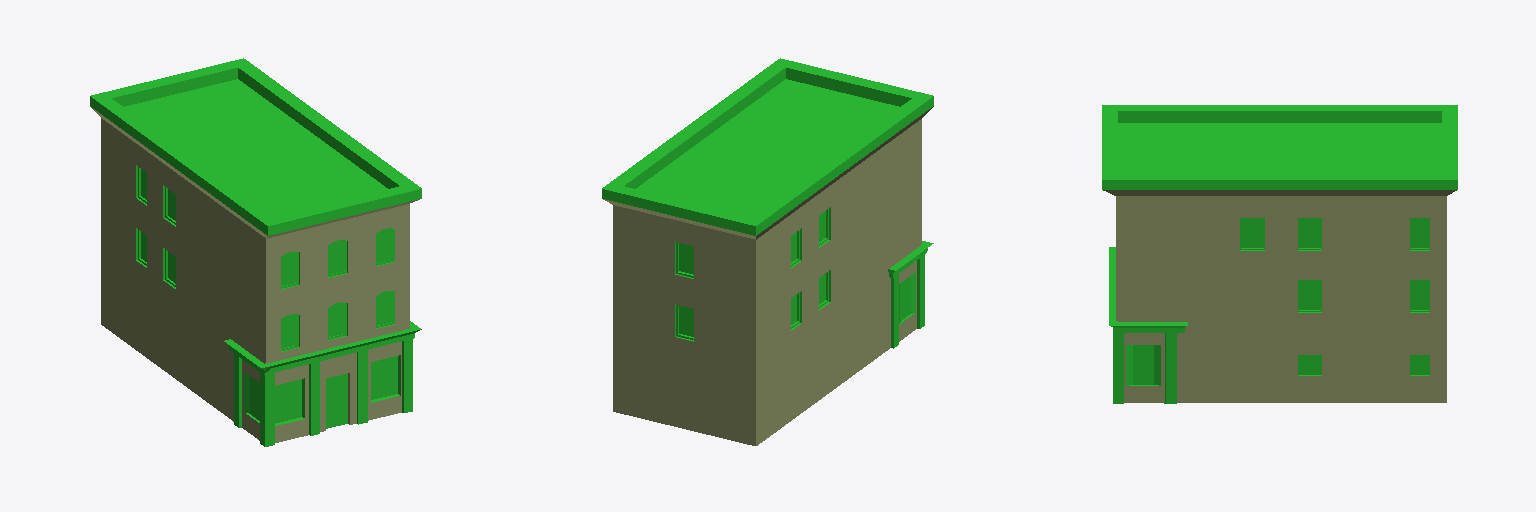
The model's file is house.obj.
The picture shows the model from 3 angles: view 1: azimuth 30°, elevation 25°; view 2: azimuth 150°, elevation 25°; view 3: azimuth 270°, elevation 25°; orthographic projection.
Parts seen in each view (by area): view 1: Cube; view 2: Cube; view 3: Cube.
Boxes of the visible parts, x1=… form: Cube: x1=90, y1=58, x2=421, y2=446; Cube: x1=602, y1=58, x2=933, y2=445; Cube: x1=1102, y1=105, x2=1457, y2=403.
Bounding box in the file's own units: 6.73 × 9.11 × 12.94.